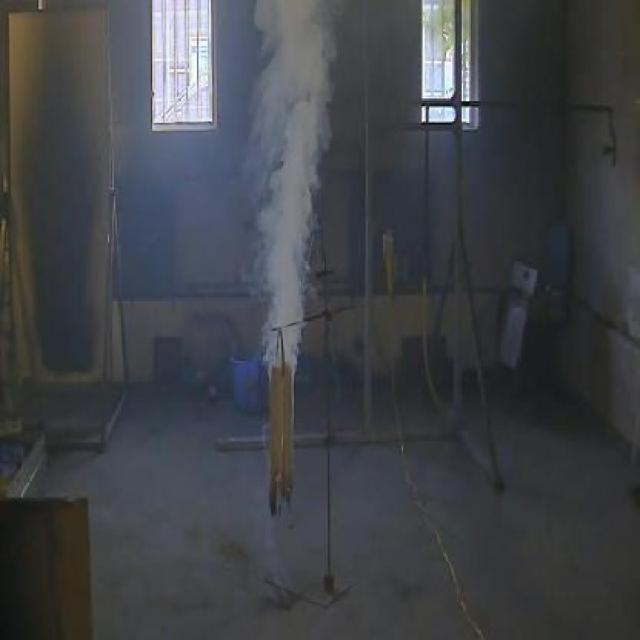fire: (240, 0, 342, 322)
